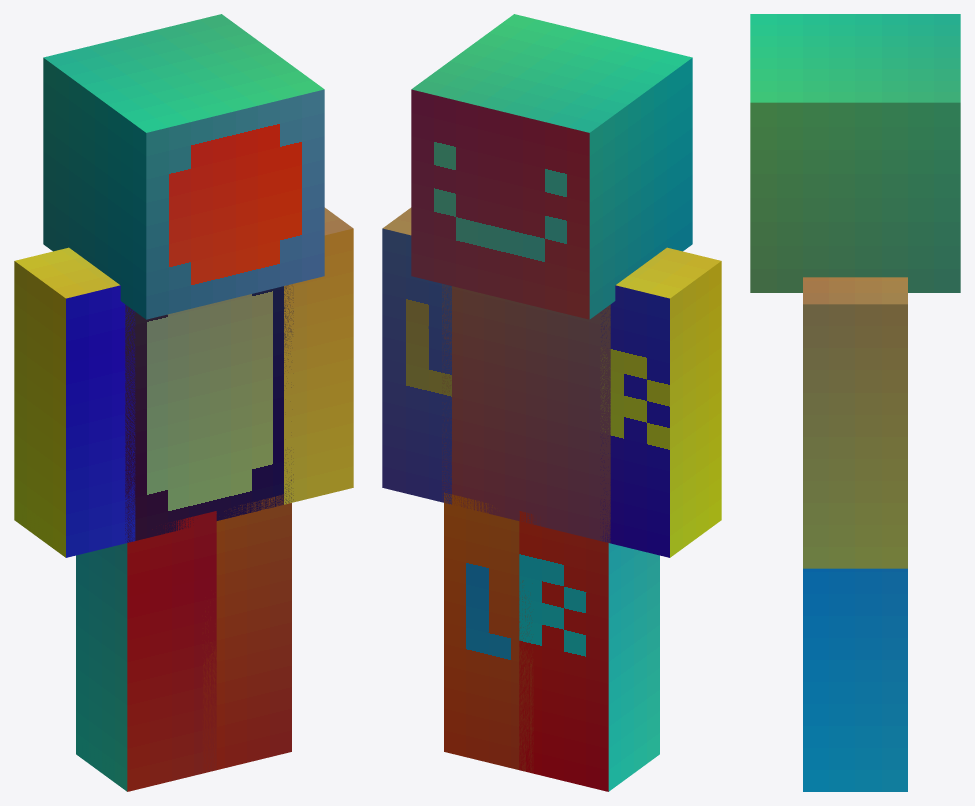
The model's file is slim UV.obj.
The picture shows the model from 3 angles, left to right: view 1: azimuth 30°, elevation 25°; view 2: azimuth 150°, elevation 25°; view 3: azimuth 270°, elevation 25°; orthographic projection.
Parts seen in each view (by area): view 1: Hat Layer, Body Layer, Left Leg Layer, Left Arm Layer, Right Leg Layer, Right Arm Layer; view 2: Hat Layer, Body Layer, Left Leg Layer, Left Arm Layer, Right Leg Layer, Right Arm Layer; view 3: Hat Layer, Right Arm Layer, Right Leg Layer.
Boxes of the visible parts, box(x1,y1,x2,y2) form: Hat Layer: box(43, 14, 324, 319); Body Layer: box(125, 285, 293, 542); Left Leg Layer: box(76, 511, 216, 791); Left Arm Layer: box(14, 247, 135, 557); Right Leg Layer: box(202, 494, 291, 772); Right Arm Layer: box(284, 207, 353, 504); Hat Layer: box(411, 14, 692, 319); Body Layer: box(442, 284, 610, 543); Left Leg Layer: box(519, 511, 659, 791); Left Arm Layer: box(601, 247, 721, 557); Right Leg Layer: box(444, 492, 533, 772); Right Arm Layer: box(382, 207, 451, 504); Hat Layer: box(750, 14, 960, 292); Right Arm Layer: box(803, 277, 907, 568); Right Leg Layer: box(803, 568, 907, 791).
Size of the model in its own units: 0.9062 by 2.05 by 0.5625.
1 material, 1 textured.
